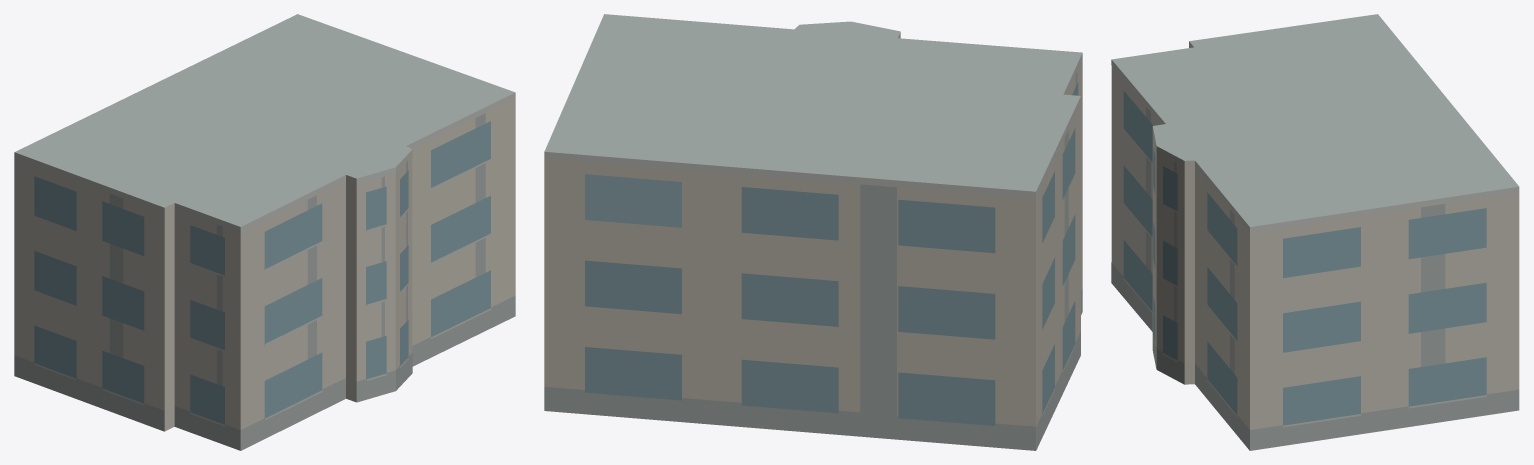
Rendered from residential-82a39bff-a50b-49c5-8d57-fa3d9e0f82f8.glb.
The picture shows the model from 3 angles, left to right: view 1: azimuth 30°, elevation 25°; view 2: azimuth 150°, elevation 25°; view 3: azimuth 270°, elevation 25°; orthographic projection. The views are drawn at different scales.
Parts seen in each view (by area): view 1: residential-82a39bff-a50b-49c5-8d57-fa3d9e0f82f8.tmp; view 2: residential-82a39bff-a50b-49c5-8d57-fa3d9e0f82f8.tmp; view 3: residential-82a39bff-a50b-49c5-8d57-fa3d9e0f82f8.tmp.
Part boxes in pixels (bbox=[...]): residential-82a39bff-a50b-49c5-8d57-fa3d9e0f82f8.tmp: bbox=[14, 14, 515, 450]; residential-82a39bff-a50b-49c5-8d57-fa3d9e0f82f8.tmp: bbox=[544, 14, 1082, 450]; residential-82a39bff-a50b-49c5-8d57-fa3d9e0f82f8.tmp: bbox=[1111, 14, 1519, 450].
Bounding box in the file's own units: 18.71 × 9.15 × 15.13.
